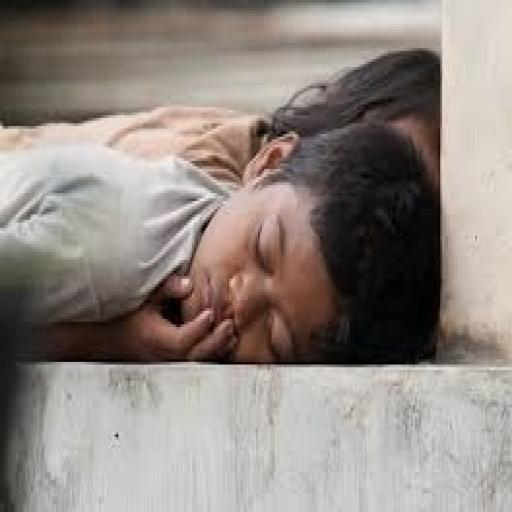sleeping: (0, 46, 442, 367)
